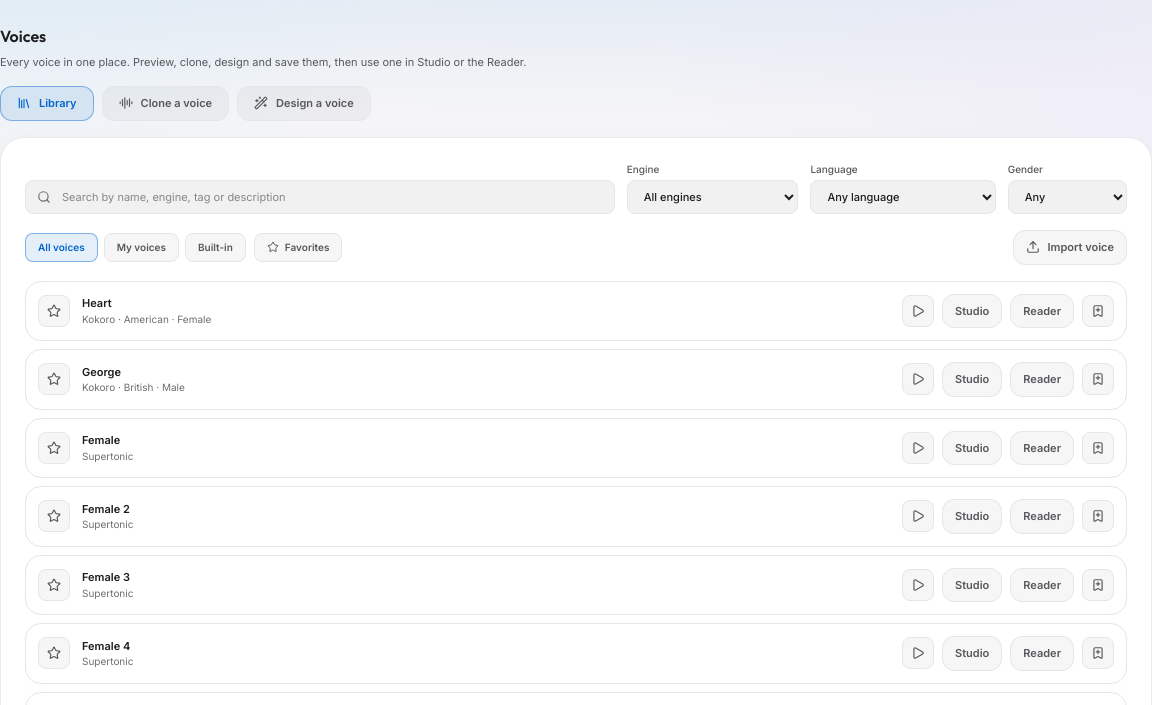
Test case: VoicesRoute › enables design once a VoiceDesign model is installed
Click the tab "Design a voice": (304, 103) [237,86,371,121]
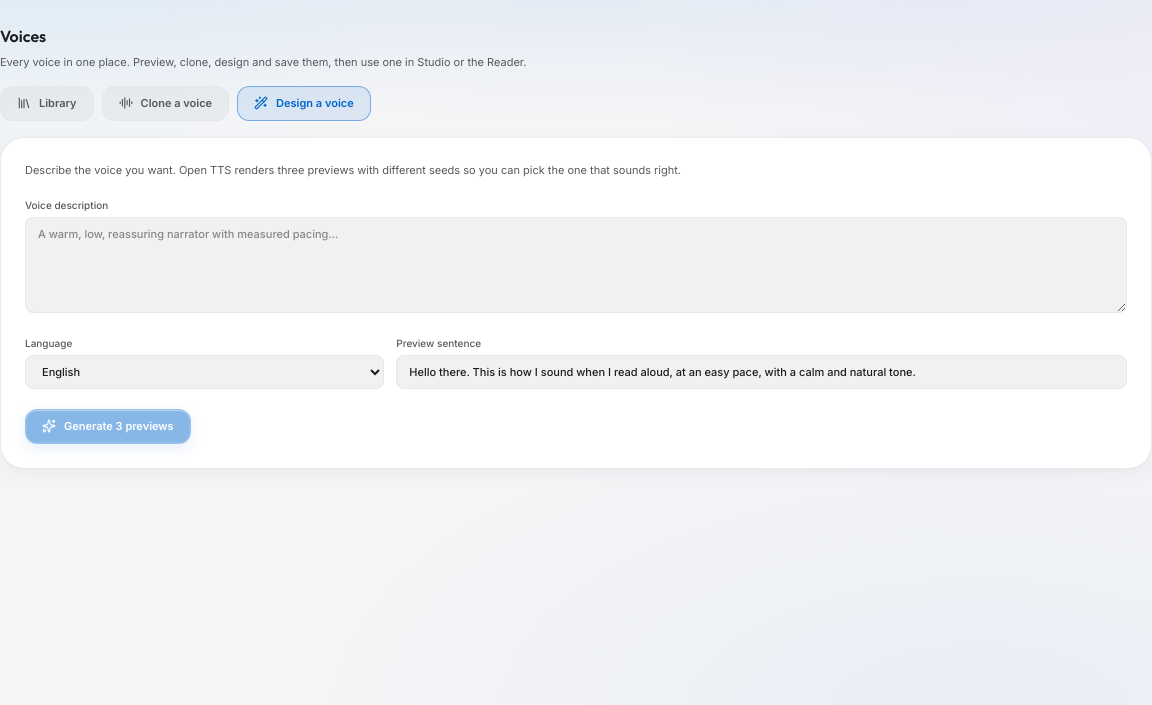
In the text box labelled "Voice description": (576, 265) [25,217,1127,313], type "A voice"
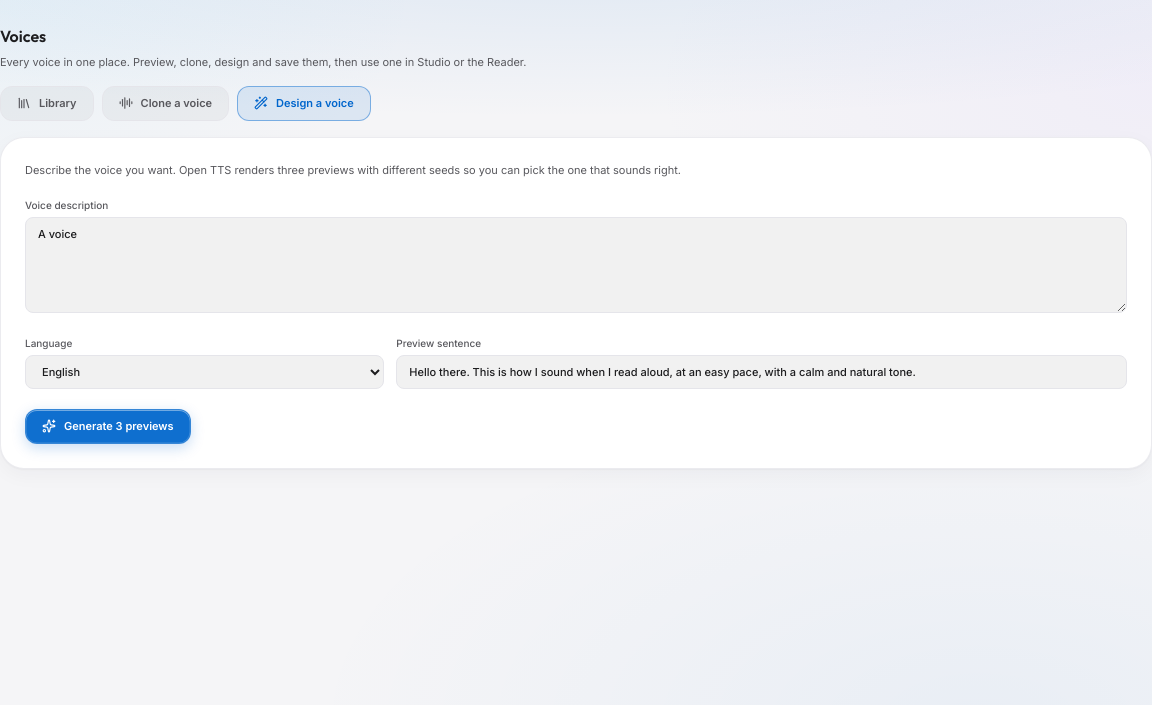
expect the button "Generate 3 previews" is enabled: met, box [25,409,191,444]
